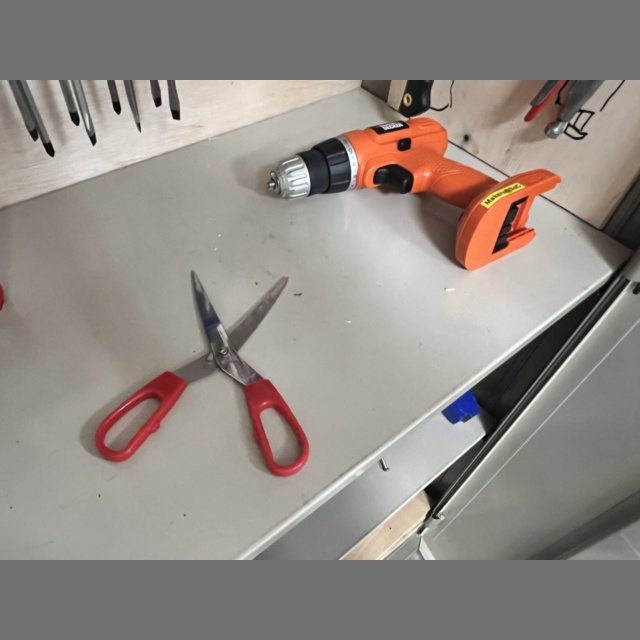drill: (269, 118, 561, 270)
scissor: (95, 271, 309, 476)
